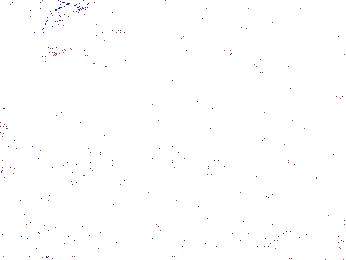moon jellyfish: (1, 100, 95, 197), (250, 42, 346, 102), (42, 3, 124, 70), (187, 10, 261, 70), (217, 17, 311, 55), (95, 8, 186, 45)
